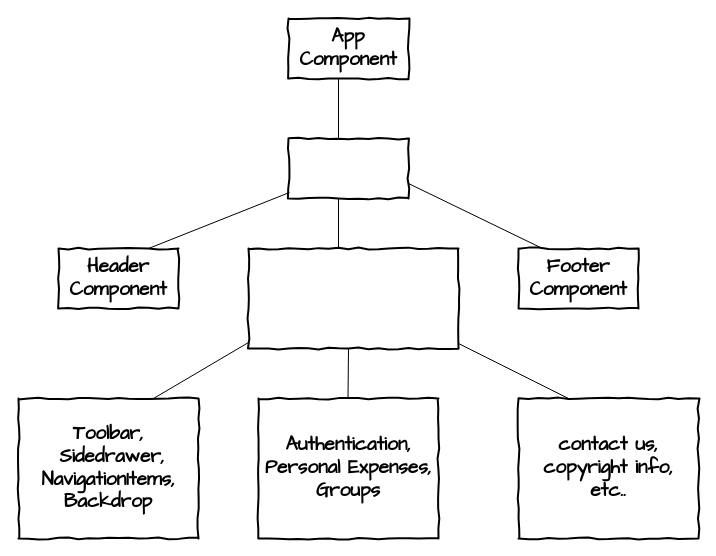
Some shapes in this 716 by 556 pixel diagram are drawn without their labels. Each missing label, with the centre of its shape:
"Layout Component" belongs at point 348,168.
"props.children (Different Content pages)" belongs at point 353,298.
